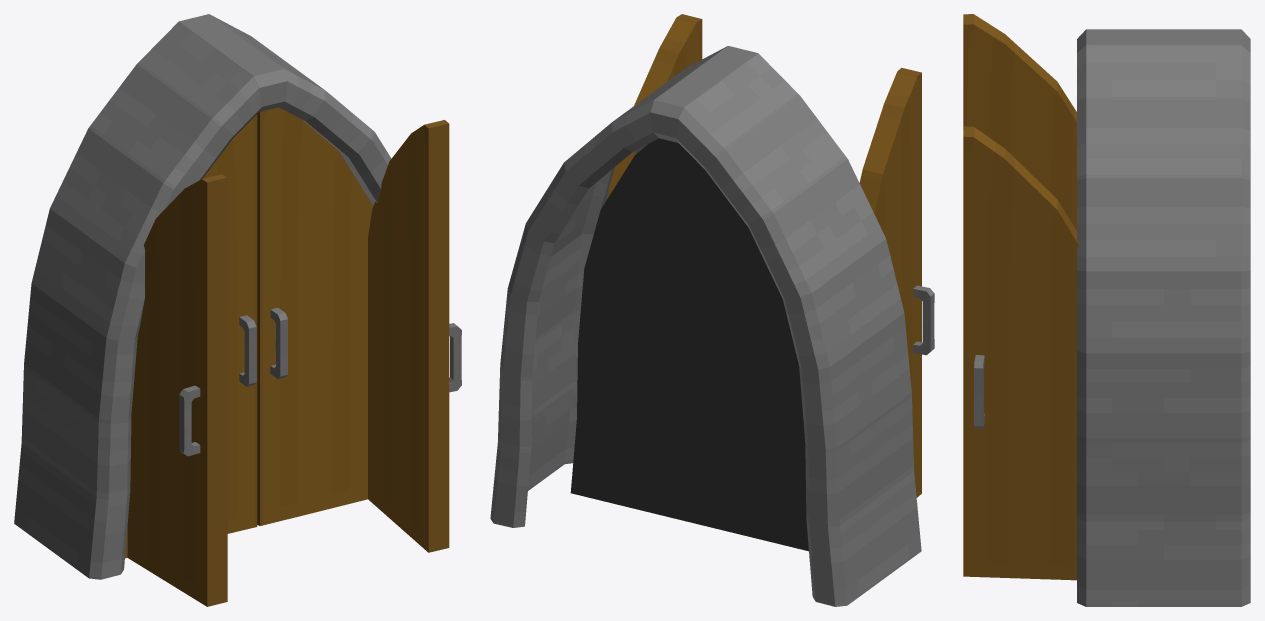
File: KasteelDeuren.fbx
The picture shows the model from 3 angles, left to right: view 1: azimuth 30°, elevation 25°; view 2: azimuth 150°, elevation 25°; view 3: azimuth 270°, elevation 25°; orthographic projection. The views are drawn at different scales.
Parts seen in each view (by area): view 1: KasteelDeurOpen, KasteelDeurClosed; view 2: KasteelDeurOpen; view 3: KasteelDeurOpen.
Part boxes in pixels (x1=…): KasteelDeurOpen: x1=14, y1=14, x2=461, y2=606; KasteelDeurClosed: x1=125, y1=107, x2=372, y2=558; KasteelDeurOpen: x1=490, y1=14, x2=934, y2=606; KasteelDeurOpen: x1=963, y1=14, x2=1250, y2=606.
Bounding box in the file's own units: 1.62 × 1.98 × 1.08.
